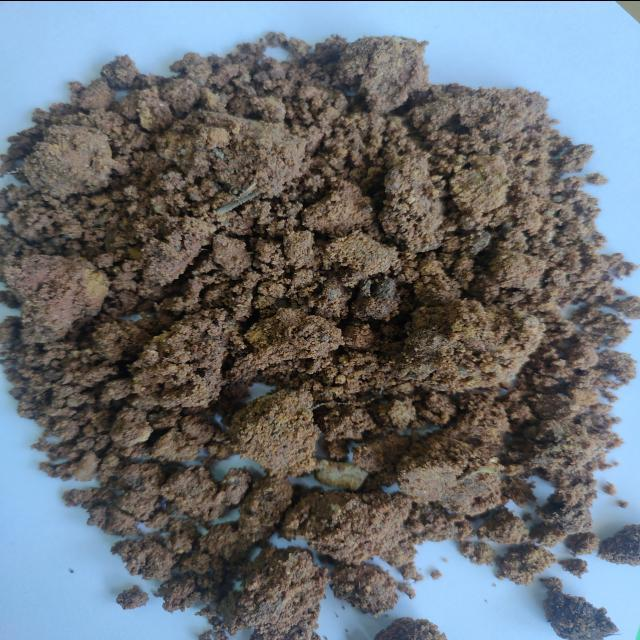soil: (128, 112, 506, 513)
